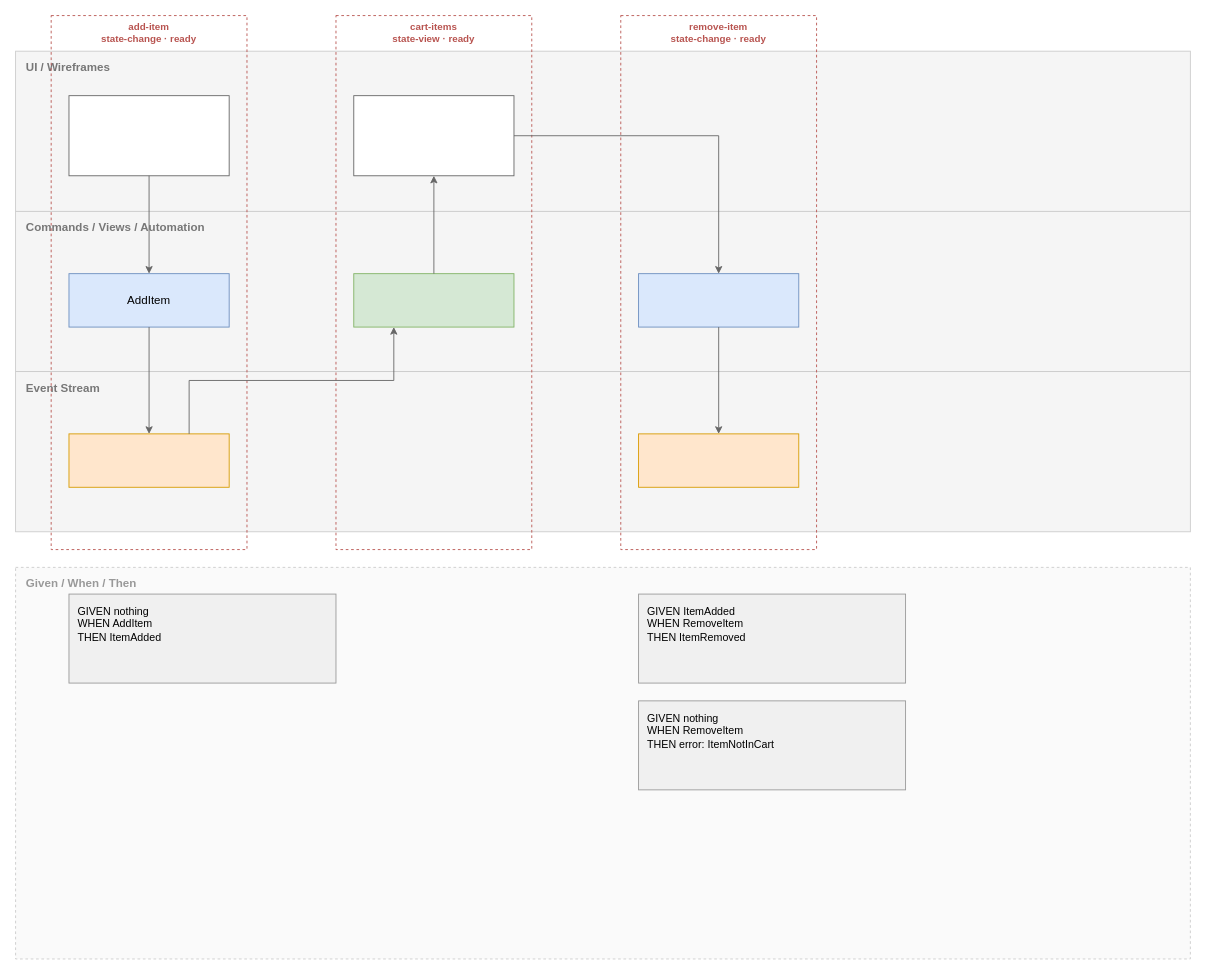
Image size: 1206x975. Some labels were removed from this diagram. The shapes that lost their labels are listed below. From the top down, each one's centre as x and y in pixels, then its label:
point 148,135: Catalog Page
point 433,135: Cart Page
point 433,300: CartItems
point 718,300: RemoveItem
point 148,460: ItemAdded
point 718,460: ItemRemoved
